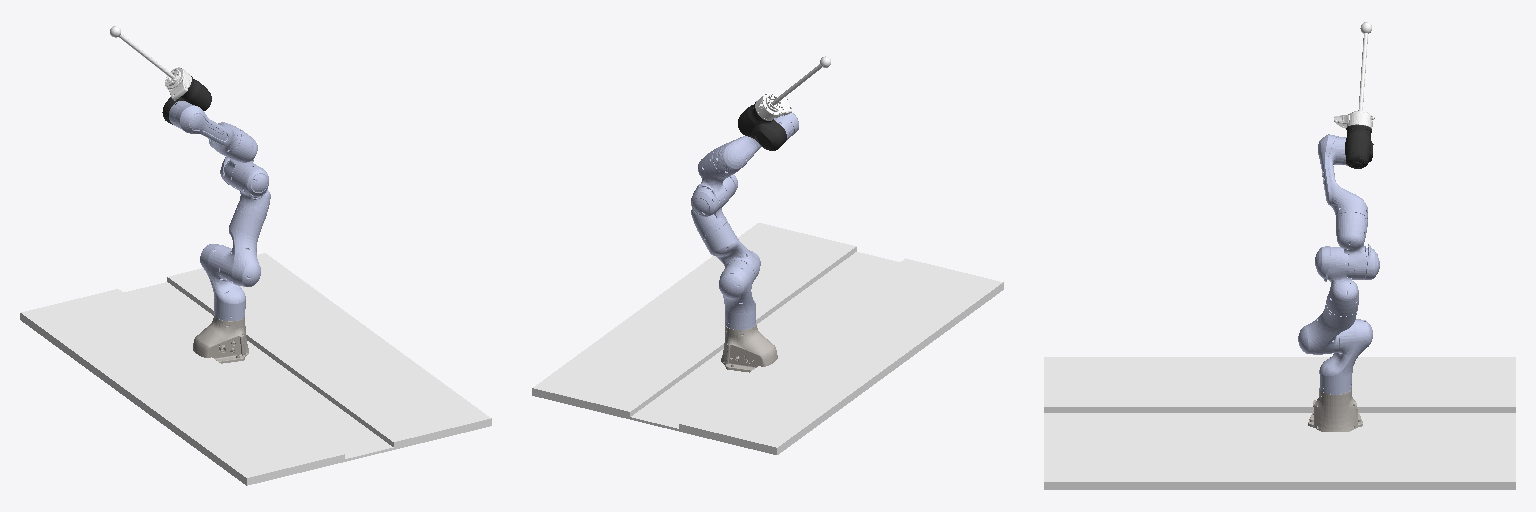
robot.urdf — urdf:
<?xml version="1.0" encoding="utf-8"?>
<!-- This URDF was automatically created by SolidWorks to URDF Exporter! Originally created by [author] ([email redacted]) 
     Commit Version: 1.6.0-4-g7f85cfe  Build Version: 1.6.7995.38578
     For more information, please see http://wiki.ros.org/sw_urdf_exporter -->
<robot
  name="urdf">
  <link
    name="base_link">
    <inertial>
      <origin
        xyz="-1.5931700403371E-14 -0.189156323214491 0.00423076923076815"
        rpy="0 0 0" />
      <mass
        value="41.6000000000001" />
      <inertia
        ixx="8.87786871794874"
        ixy="-5.70099523145018E-14"
        ixz="2.27595720048157E-14"
        iyy="3.98186871794872"
        iyz="-4.13002965160558E-14"
        izz="12.8533333333334" />
    </inertial>
    <visual>
      <origin
        xyz="0 0 0"
        rpy="0 0 0" />
      <geometry>
        <mesh
          filename="package://urdf/meshes/base_link.STL" />
      </geometry>
      <material
        name="">
        <color
          rgba="1 1 1 1" />
      </material>
    </visual>
    <collision>
      <origin
        xyz="0 0 0"
        rpy="0 0 0" />
      <geometry>
        <mesh
          filename="package://urdf/meshes/base_link.STL" />
      </geometry>
    </collision>
  </link>
  <link
    name="link0">
    <inertial>
      <origin
        xyz="0.0697076139504187 -0.00140815173900682 -0.0227826628781359"
        rpy="0 0 0" />
      <mass
        value="0.729781826737575" />
      <inertia
        ixx="0.00315244975135936"
        ixy="-5.97585367250946E-05"
        ixz="-0.000723412566994613"
        iyy="0.00389495429670545"
        iyz="-5.20226223622684E-05"
        izz="0.00309950898878836" />
    </inertial>
    <visual>
      <origin
        xyz="0 0 0"
        rpy="0 0 0" />
      <geometry>
        <mesh
          filename="package://urdf/meshes/link0.STL" />
      </geometry>
      <material
        name="">
        <color
          rgba="0.768627450980392 0.749019607843137 0.729411764705882 1" />
      </material>
    </visual>
    <collision>
      <origin
        xyz="0 0 0"
        rpy="0 0 0" />
      <geometry>
        <mesh
          filename="package://urdf/meshes/link0.STL" />
      </geometry>
    </collision>
  </link>
  <joint
    name="joint0"
    type="prismatic">
    <origin
      xyz="0 0 0"
      rpy="0 -1.5708 3.1416" />
    <parent
      link="base_link" />
    <child
      link="link0" />
    <axis
      xyz="-0.017452 0 0.99985" />
    <limit
      lower="0"
      upper="100"
      effort="100"
      velocity="1" />
  </joint>
  <link
    name="link1">
    <inertial>
      <origin
        xyz="-0.0154442688384797 0.000274962298985826 0.237221117621358"
        rpy="0 0 0" />
      <mass
        value="0.807676077108755" />
      <inertia
        ixx="0.00627764124273707"
        ixy="-7.95449209823453E-05"
        ixz="0.0010835693393609"
        iyy="0.00665541170457635"
        iyz="0.000187310618718471"
        izz="0.00183915422486707" />
    </inertial>
    <visual>
      <origin
        xyz="0 0 0"
        rpy="0 0 0" />
      <geometry>
        <mesh
          filename="package://urdf/meshes/link1.STL" />
      </geometry>
      <material
        name="">
        <color
          rgba="0.792156862745098 0.819607843137255 0.933333333333333 1" />
      </material>
    </visual>
    <collision>
      <origin
        xyz="0 0 0"
        rpy="0 0 0" />
      <geometry>
        <mesh
          filename="package://urdf/meshes/link1.STL" />
      </geometry>
    </collision>
  </link>
  <joint
    name="joint1"
    type="revolute">
    <origin
      xyz="0 0 0"
      rpy="1.5707963267949 0 1.5707963267949" />
    <parent
      link="link0" />
    <child
      link="link1" />
    <axis
      xyz="0 -0.0174524064372785 -0.999847695156391" />
    <limit
      lower="-3.14"
      upper="3.14"
      effort="100"
      velocity="1" />
  </joint>
  <link
    name="link2">
    <inertial>
      <origin
        xyz="0.0697845239477517 -0.0386032286098406 0.0183991382591546"
        rpy="0 0 0" />
      <mass
        value="0.997380997892783" />
      <inertia
        ixx="0.00349932115160617"
        ixy="0.00265219558673493"
        ixz="0.00117332171830551"
        iyy="0.00683743698311926"
        iyz="-0.000648408261722175"
        izz="0.00796795270784782" />
    </inertial>
    <visual>
      <origin
        xyz="0 0 0"
        rpy="0 0 0" />
      <geometry>
        <mesh
          filename="package://urdf/meshes/link2.STL" />
      </geometry>
      <material
        name="">
        <color
          rgba="0.792156862745098 0.819607843137255 0.933333333333333 1" />
      </material>
    </visual>
    <collision>
      <origin
        xyz="0 0 0"
        rpy="0 0 0" />
      <geometry>
        <mesh
          filename="package://urdf/meshes/link2.STL" />
      </geometry>
    </collision>
  </link>
  <joint
    name="joint2"
    type="revolute">
    <origin
      xyz="0 0.00581165134361261 0.332849282487077"
      rpy="1.81514242207415 -1.55334303427494 1.57079632679482" />
    <parent
      link="link1" />
    <child
      link="link2" />
    <axis
      xyz="0 0 -1" />
    <limit
      lower="-3.14"
      upper="3.14"
      effort="100"
      velocity="1" />
  </joint>
  <link
    name="link3">
    <inertial>
      <origin
        xyz="-0.0166505402224399 0.0384648862598106 0.0726461039263562"
        rpy="0 0 0" />
      <mass
        value="0.695359305036066" />
      <inertia
        ixx="0.00355819396322579"
        ixy="0.000375214669841295"
        ixz="0.000426011307643562"
        iyy="0.00263882908432232"
        iyz="-0.00121946957110062"
        izz="0.00231793970411262" />
    </inertial>
    <visual>
      <origin
        xyz="0 0 0"
        rpy="0 0 0" />
      <geometry>
        <mesh
          filename="package://urdf/meshes/link3.STL" />
      </geometry>
      <material
        name="">
        <color
          rgba="0.792156862745098 0.819607843137255 0.933333333333333 1" />
      </material>
    </visual>
    <collision>
      <origin
        xyz="0 0 0"
        rpy="0 0 0" />
      <geometry>
        <mesh
          filename="package://urdf/meshes/link3.STL" />
      </geometry>
    </collision>
  </link>
  <joint
    name="joint3"
    type="revolute">
    <origin
      xyz="0.169044298335245 -0.0932326536163401 0"
      rpy="-1.5707963267949 1.32045808503564 -2.07481186327979" />
    <parent
      link="link2" />
    <child
      link="link3" />
    <axis
      xyz="0 0 -1" />
    <limit
      lower="-3.14"
      upper="3.14"
      effort="100"
      velocity="1" />
  </joint>
  <link
    name="link4">
    <inertial>
      <origin
        xyz="0.0349060237996466 -0.0490094073960513 -0.0918382941767998"
        rpy="0 0 0" />
      <mass
        value="0.78804230982515" />
      <inertia
        ixx="0.00333577142197411"
        ixy="0.00137453787709659"
        ixz="0.000376756873853552"
        iyy="0.00230926768918599"
        iyz="-0.000542381547232343"
        izz="0.00417064722024785" />
    </inertial>
    <visual>
      <origin
        xyz="0 0 0"
        rpy="0 0 0" />
      <geometry>
        <mesh
          filename="package://urdf/meshes/link4.STL" />
      </geometry>
      <material
        name="">
        <color
          rgba="0.792156862745098 0.819607843137255 0.933333333333333 1" />
      </material>
    </visual>
    <collision>
      <origin
        xyz="0 0 0"
        rpy="0 0 0" />
      <geometry>
        <mesh
          filename="package://urdf/meshes/link4.STL" />
      </geometry>
    </collision>
  </link>
  <joint
    name="joint4"
    type="revolute">
    <origin
      xyz="0.10986 0.082546 0.12296"
      rpy="-1.5708 -1.3271 -1.5708" />
    <parent
      link="link3" />
    <child
      link="link4" />
    <axis
      xyz="0 0 -1" />
    <limit
      lower="-3.14"
      upper="3.14"
      effort="100"
      velocity="1" />
  </joint>
  <link
    name="link5">
    <inertial>
      <origin
        xyz="0.0648208028113674 -0.000603823844659956 0.16293400326977"
        rpy="0 0 0" />
      <mass
        value="0.304157924405713" />
      <inertia
        ixx="0.00254842573329943"
        ixy="3.1270729579259E-06"
        ixz="-0.000642558623240078"
        iyy="0.00296907227482736"
        iyz="6.02878291868698E-06"
        izz="0.000624578115303709" />
    </inertial>
    <visual>
      <origin
        xyz="0 0 0"
        rpy="0 0 0" />
      <geometry>
        <mesh
          filename="package://urdf/meshes/link5.STL" />
      </geometry>
      <material
        name="">
        <color
          rgba="0.792156862745098 0.819607843137255 0.933333333333333 1" />
      </material>
    </visual>
    <collision>
      <origin
        xyz="0 0 0"
        rpy="0 0 0" />
      <geometry>
        <mesh
          filename="package://urdf/meshes/link5.STL" />
      </geometry>
    </collision>
  </link>
  <joint
    name="joint5"
    type="revolute">
    <origin
      xyz="0.0701431475384735 -0.130351649640252 -0.109856114198677"
      rpy="-1.82060392622975 1.57079630572147 2.79019977392753" />
    <parent
      link="link4" />
    <child
      link="link5" />
    <axis
      xyz="0 0 -1" />
    <limit
      lower="-3.14"
      upper="3.14"
      effort="100"
      velocity="1" />
  </joint>
  <link
    name="link6">
    <inertial>
      <origin
        xyz="0.0621614636942338 -0.00081200057463171 0.135025934748672"
        rpy="0 0 0" />
      <mass
        value="0.23109170913146" />
      <inertia
        ixx="0.000236555356335027"
        ixy="-7.49734908384106E-06"
        ixz="1.09955372323093E-05"
        iyy="0.000412609481584096"
        iyz="2.98771583811829E-06"
        izz="0.000523874006626409" />
    </inertial>
    <visual>
      <origin
        xyz="0 0 0"
        rpy="0 0 0" />
      <geometry>
        <mesh
          filename="package://urdf/meshes/link6.STL" />
      </geometry>
      <material
        name="">
        <color
          rgba="0.250980392156863 0.250980392156863 0.250980392156863 1" />
      </material>
    </visual>
    <collision>
      <origin
        xyz="0 0 0"
        rpy="0 0 0" />
      <geometry>
        <mesh
          filename="package://urdf/meshes/link6.STL" />
      </geometry>
    </collision>
  </link>
  <joint
    name="joint6"
    type="revolute">
    <origin
      xyz="0.12661 -0.00088941 0.24239"
      rpy="-1.5708 0 1.5638" />
    <parent
      link="link5" />
    <child
      link="link6" />
    <axis
      xyz="0 0 -1" />
    <limit
      lower="-3.14"
      upper="3.14"
      effort="100"
      velocity="1" />
  </joint>
  <link
    name="link7">
    <inertial>
      <origin
        xyz="-0.00347386422902773 -0.00584667463079747 0.151865909250573"
        rpy="0 0 0" />
      <mass
        value="0.277615826704723" />
      <inertia
        ixx="0.00118609723739263"
        ixy="-1.36423114064526E-05"
        ixz="8.71645624328038E-06"
        iyy="0.00117337856532793"
        iyz="1.24557141551905E-05"
        izz="0.000251974694297406" />
    </inertial>
    <visual>
      <origin
        xyz="0 0 0"
        rpy="0 0 0" />
      <geometry>
        <mesh
          filename="package://urdf/meshes/link7.STL" />
      </geometry>
      <material
        name="">
        <color
          rgba="1 1 1 1" />
      </material>
    </visual>
    <collision>
      <origin
        xyz="0 0 0"
        rpy="0 0 0" />
      <geometry>
        <mesh
          filename="package://urdf/meshes/link7.STL" />
      </geometry>
    </collision>
  </link>
  <joint
    name="joint7"
    type="revolute">
    <origin
      xyz="0.087221 -0.0069742 0.12661"
      rpy="1.5708 0 0.13319" />
    <parent
      link="link6" />
    <child
      link="link7" />
    <axis
      xyz="0 0 1" />
    <limit
      lower="-3.14"
      upper="3.14"
      effort="100"
      velocity="1" />
  </joint>
</robot>

--- Facts derived from the render (not from the file) ---
The picture shows the robot from 3 angles, left to right: view 1: azimuth 30°, elevation 25°; view 2: azimuth 150°, elevation 25°; view 3: azimuth 270°, elevation 25°; orthographic projection.
Robot: urdf — 9 links, 8 joints (7 revolute, 1 prismatic); root link base_link; default pose: every joint at zero.
Visible links, largest first — view 1: base_link, link2, link0, link1, link5, link3, link7, link4, link6; view 2: base_link, link1, link0, link5, link4, link2, link6, link7, link3; view 3: base_link, link1, link4, link3, link5, link0, link2, link6, link7.
Boxes of the visible links, box(x1,y1,x2,y2) form: base_link: box(20, 253, 491, 485); link2: box(220, 209, 264, 286); link0: box(193, 316, 248, 363); link1: box(200, 244, 245, 320); link5: box(169, 101, 240, 155); link3: box(232, 162, 270, 219); link7: box(110, 26, 191, 100); link4: box(220, 129, 257, 188); link6: box(162, 76, 211, 124); base_link: box(532, 223, 1003, 454); link1: box(719, 260, 755, 329); link0: box(721, 325, 777, 372); link5: box(713, 113, 798, 175); link4: box(691, 149, 729, 216); link2: box(701, 221, 760, 279); link6: box(738, 102, 786, 150); link7: box(755, 56, 830, 120); link3: box(691, 174, 737, 235); base_link: box(1044, 357, 1515, 489); link1: box(1319, 319, 1372, 394); link4: box(1336, 212, 1379, 283); link3: box(1315, 246, 1358, 316); link5: box(1318, 134, 1367, 218); link0: box(1308, 388, 1362, 431); link2: box(1298, 300, 1357, 354); link6: box(1345, 125, 1373, 168); link7: box(1334, 22, 1374, 128).
Bounding box of the posed robot: 1 × 1.6 × 1.33 m (x, y, z).
9 mesh visuals loaded from 9 distinct referenced files (9 binary STL).